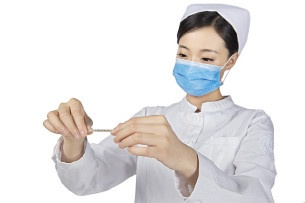Mask: (168, 39, 226, 98)
